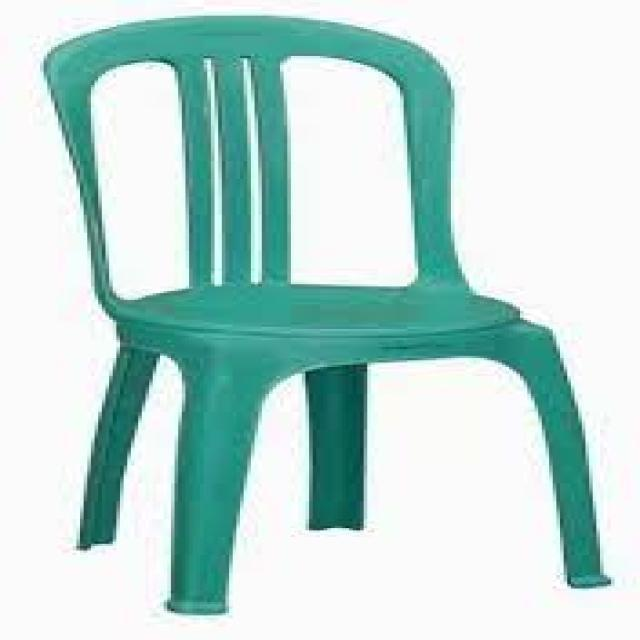chair: (37, 13, 611, 617)
